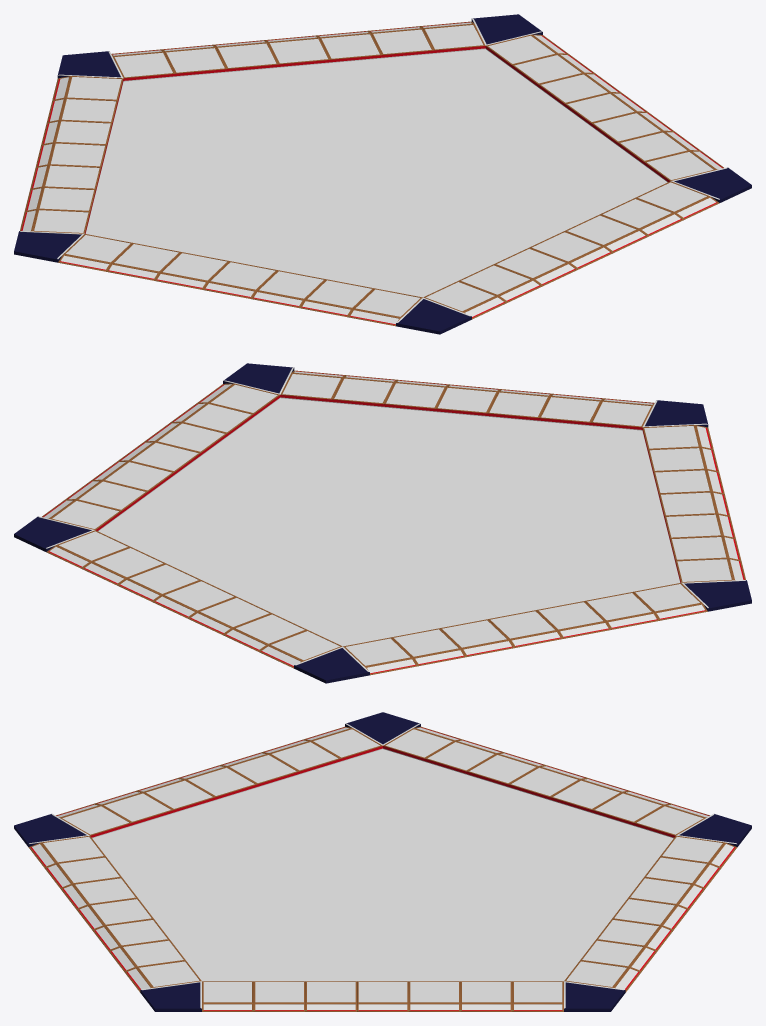
The model's file is playground.fbx.
The picture shows the model from 3 angles, top to bottom: view 1: azimuth 30°, elevation 25°; view 2: azimuth 150°, elevation 25°; view 3: azimuth 270°, elevation 25°; orthographic projection. The views are drawn at different scales.
Parts seen in each view (by area): view 1: Plane.044, location 17, location 22, location 20, location 18, location 21, location 19, location 16, location 15, location 13, location 11, location 10 (+29 smaller); view 2: Plane.044, location 29, location 28, location 26, location 24, location 25, location 27, location 30, location 31, location 33, location 35, location 38 (+29 smaller); view 3: Plane.044, location 5, location 1, location 6, location 4, location 3, location 2, location 0, location 7, location 39, location 13, location 33 (+29 smaller).
Part boxes in pixels (box(x1,y1,x2,y2)): Plane.044: box(85, 49, 667, 297); location 17: box(299, 279, 374, 317); location 22: box(58, 234, 132, 271); location 20: box(154, 252, 229, 289); location 18: box(251, 270, 325, 307); location 21: box(106, 243, 180, 280); location 19: box(203, 261, 277, 298); location 16: box(348, 288, 422, 326); location 15: box(396, 297, 471, 334); location 13: box(458, 264, 542, 302); location 11: box(529, 231, 613, 269); location 10: box(565, 214, 648, 252); Plane.044: box(98, 398, 680, 646); location 29: box(391, 628, 466, 666); location 28: box(440, 619, 514, 656); location 26: box(536, 601, 611, 638); location 24: box(633, 583, 707, 620); location 25: box(585, 592, 659, 629); location 27: box(488, 610, 562, 647); location 30: box(343, 637, 417, 675); location 31: box(294, 646, 369, 683); location 33: box(223, 613, 307, 651); location 35: box(152, 580, 236, 618); location 38: box(46, 530, 130, 568); Plane.044: box(92, 749, 673, 981); location 5: box(253, 981, 305, 1011); location 1: box(460, 981, 512, 1011); location 6: box(202, 981, 253, 1011); location 4: box(305, 981, 356, 1011); location 3: box(357, 981, 408, 1011); location 2: box(409, 981, 460, 1011); location 0: box(512, 981, 563, 1011); location 7: box(140, 981, 201, 1011); location 39: box(564, 981, 625, 1011); location 13: box(44, 856, 121, 888); location 33: box(644, 856, 721, 888).
Size of the model in its own units: 1406 by 7.54 by 1478.
